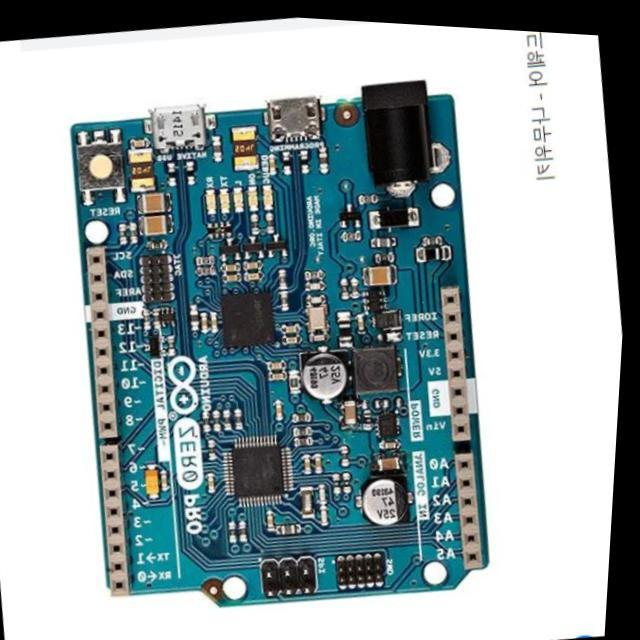Arduino-Zero: (72, 83, 488, 607)
